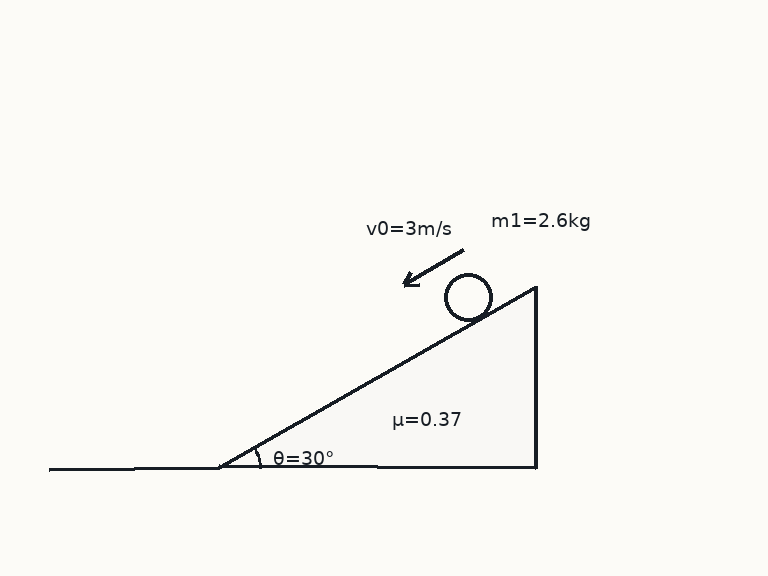ball: (442, 271, 494, 323)
ramp: (218, 284, 536, 470)
